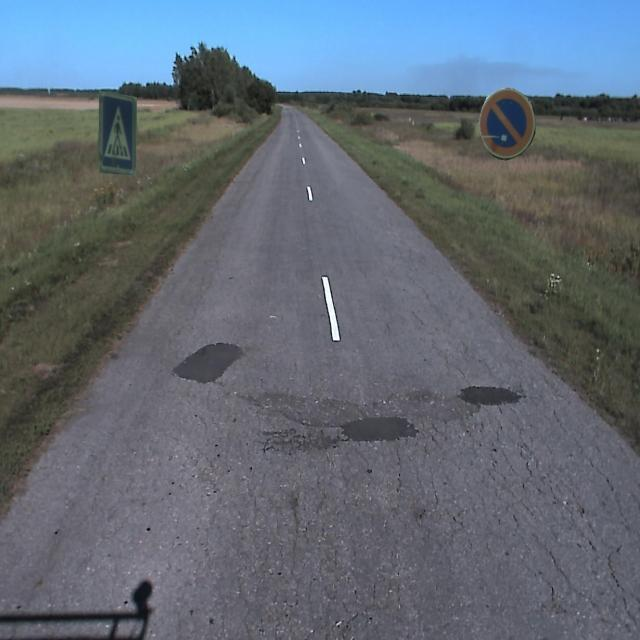road: (0, 111, 639, 639)
